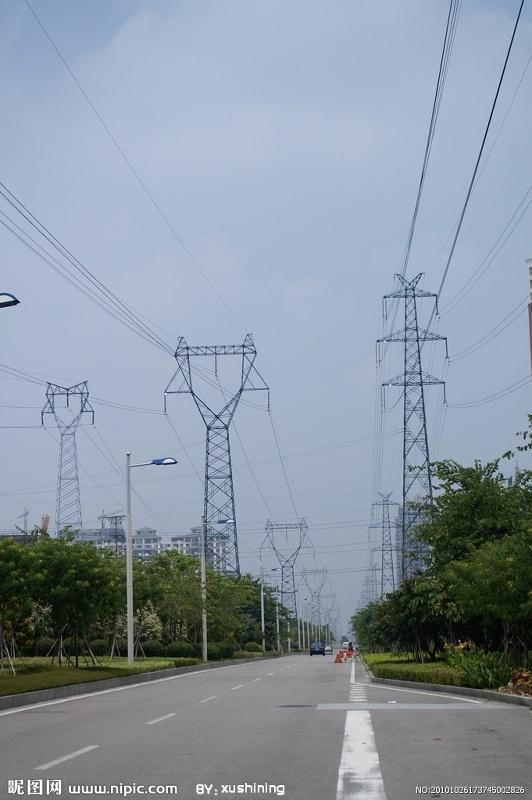power_tower: (164, 333, 270, 579), (375, 271, 451, 600), (39, 378, 96, 552), (264, 510, 316, 641), (368, 488, 402, 606), (297, 565, 330, 622), (361, 560, 386, 601), (315, 590, 339, 624)
